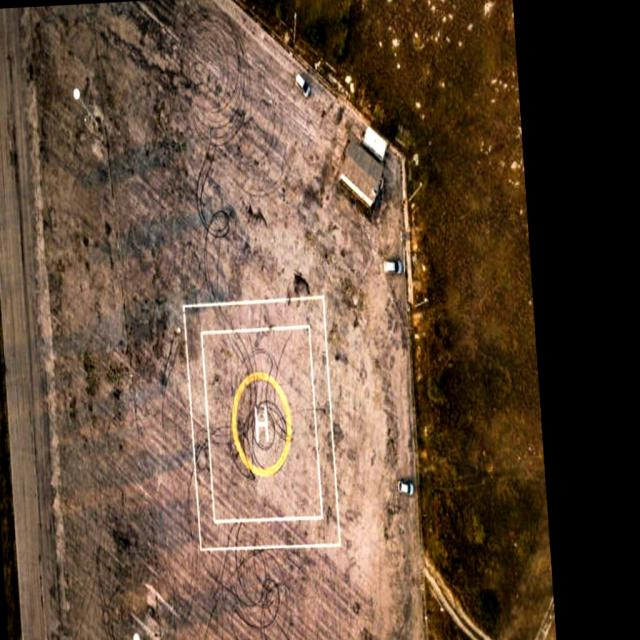helipad: (229, 366, 294, 477)
